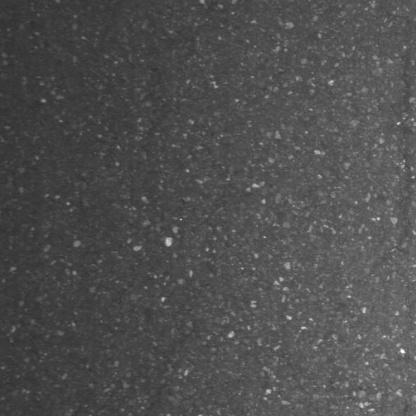Cracks: (393, 141, 416, 260), (398, 50, 416, 136)
